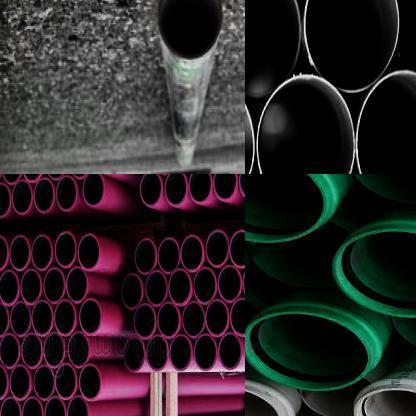pipe: (245, 302, 372, 391), (255, 73, 355, 174), (304, 0, 399, 93), (332, 229, 416, 318), (248, 218, 352, 288), (356, 71, 416, 174), (245, 174, 328, 243), (245, 0, 301, 96), (157, 0, 221, 61), (300, 378, 373, 416), (245, 378, 294, 416), (353, 387, 416, 416), (392, 288, 416, 356), (245, 289, 266, 357), (219, 333, 242, 369), (194, 334, 216, 370), (206, 300, 228, 336), (206, 230, 228, 266), (79, 365, 101, 400), (182, 302, 204, 337), (80, 299, 102, 334), (219, 266, 241, 301), (68, 332, 89, 368), (78, 234, 99, 270), (146, 336, 168, 370), (194, 268, 216, 302), (66, 268, 88, 302), (55, 364, 76, 399), (158, 239, 180, 272), (170, 336, 191, 370), (121, 274, 142, 308), (169, 270, 190, 304), (55, 300, 75, 335), (134, 305, 155, 338), (181, 237, 202, 270), (165, 174, 187, 205), (34, 366, 54, 400), (10, 366, 30, 400), (44, 333, 64, 367), (158, 303, 178, 337), (10, 302, 30, 336), (21, 270, 41, 304), (44, 268, 64, 302), (32, 236, 52, 270), (56, 232, 76, 266), (123, 338, 144, 370), (140, 174, 161, 206), (22, 334, 42, 367), (32, 302, 52, 335), (135, 240, 155, 273), (56, 177, 76, 210), (83, 174, 104, 205), (11, 236, 30, 270), (12, 180, 31, 214), (34, 178, 53, 212), (189, 174, 212, 202), (146, 272, 166, 304), (0, 270, 18, 304), (0, 334, 18, 367), (214, 174, 236, 199), (230, 232, 245, 266), (231, 298, 245, 334), (67, 395, 88, 416), (45, 396, 65, 416), (22, 397, 42, 416), (0, 397, 20, 416), (0, 183, 11, 217), (0, 303, 8, 336), (0, 235, 7, 269), (0, 366, 7, 399), (2, 174, 21, 183), (22, 174, 43, 181)
